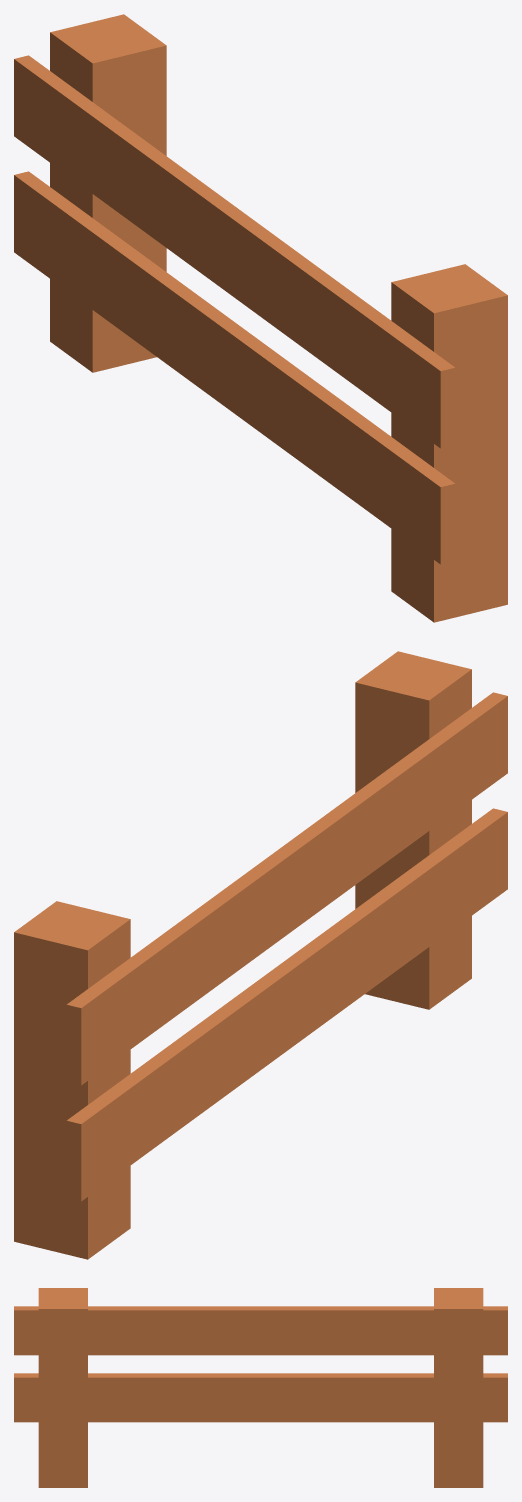
The model's file is fence.fbx.
The picture shows the model from 3 angles, top to bottom: view 1: azimuth 30°, elevation 25°; view 2: azimuth 150°, elevation 25°; view 3: azimuth 270°, elevation 25°; orthographic projection. The views are drawn at different scales.
Parts seen in each view (by area): view 1: fence; view 2: fence; view 3: fence.
Part boxes in pixels (x1,y1,x2,y2): fence: (14, 14, 507, 622); fence: (14, 651, 507, 1259); fence: (14, 1288, 507, 1487).
Size of the model in its own units: 1.2 by 4 by 10.
